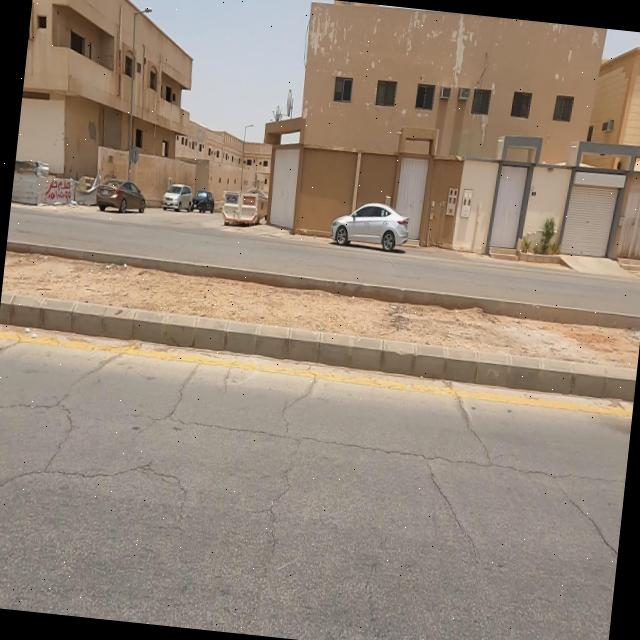Graffiti: (46, 180, 76, 204)
